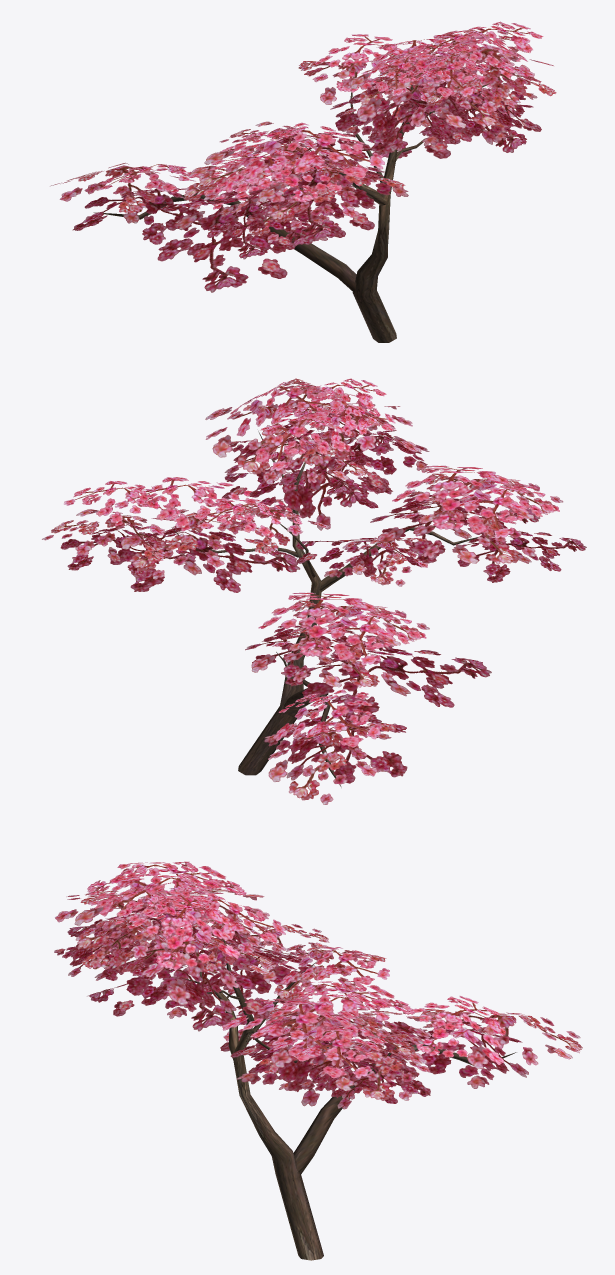
File: S_Tree_Red002_A1.FBX
The picture shows the model from 3 angles, top to bottom: view 1: azimuth 30°, elevation 25°; view 2: azimuth 150°, elevation 25°; view 3: azimuth 270°, elevation 25°; orthographic projection. The views are drawn at different scales.
Parts seen in each view (by area): view 1: S_Tree_Red002_A1_2, S_Tree_Red002_A1_1; view 2: S_Tree_Red002_A1_2, S_Tree_Red002_A1_1; view 3: S_Tree_Red002_A1_2, S_Tree_Red002_A1_1.
Part boxes in pixels (x1,y1,x2,y2): S_Tree_Red002_A1_2: [50, 21, 556, 292]; S_Tree_Red002_A1_1: [93, 76, 489, 342]; S_Tree_Red002_A1_2: [42, 378, 586, 804]; S_Tree_Red002_A1_1: [172, 431, 482, 787]; S_Tree_Red002_A1_2: [54, 861, 582, 1109]; S_Tree_Red002_A1_1: [182, 940, 516, 1260].
Bounding box in the file's own units: 428 × 295 × 435.
